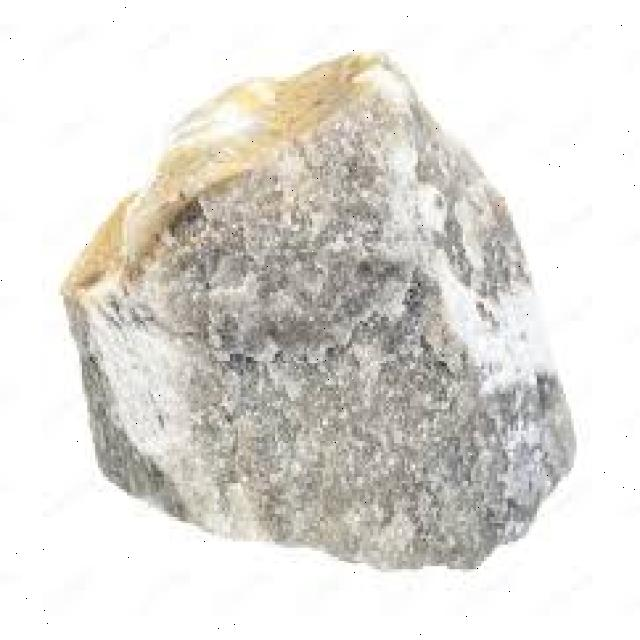Metamorphic: (42, 52, 582, 572)
